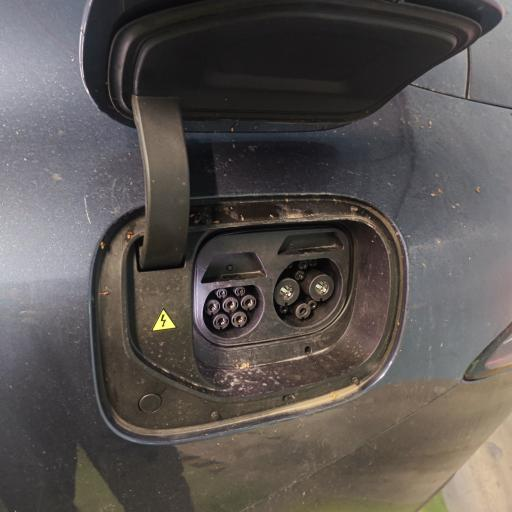AC_charging_hole: (201, 283, 266, 341)
DC_charging_port: (270, 258, 348, 331)
DC_hole: (309, 272, 336, 303), (275, 277, 300, 307)
PE: (296, 303, 312, 319)
